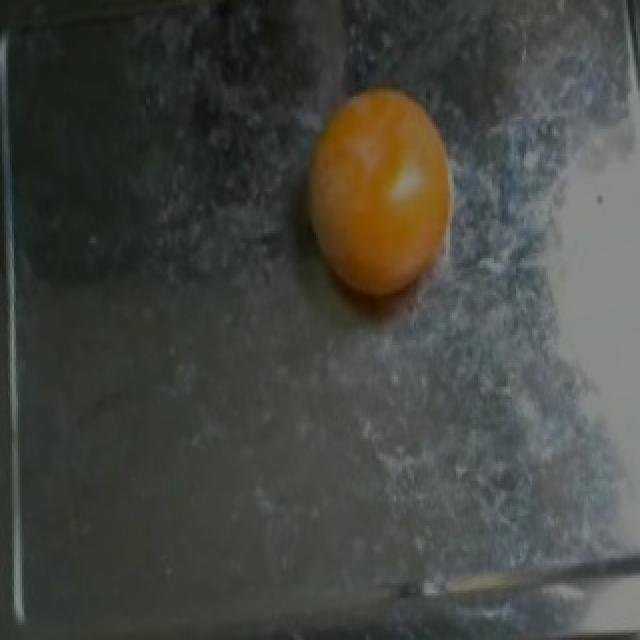Fruit: (282, 69, 470, 320)
